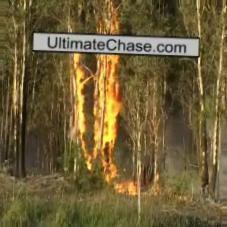fire: (61, 9, 155, 196)
